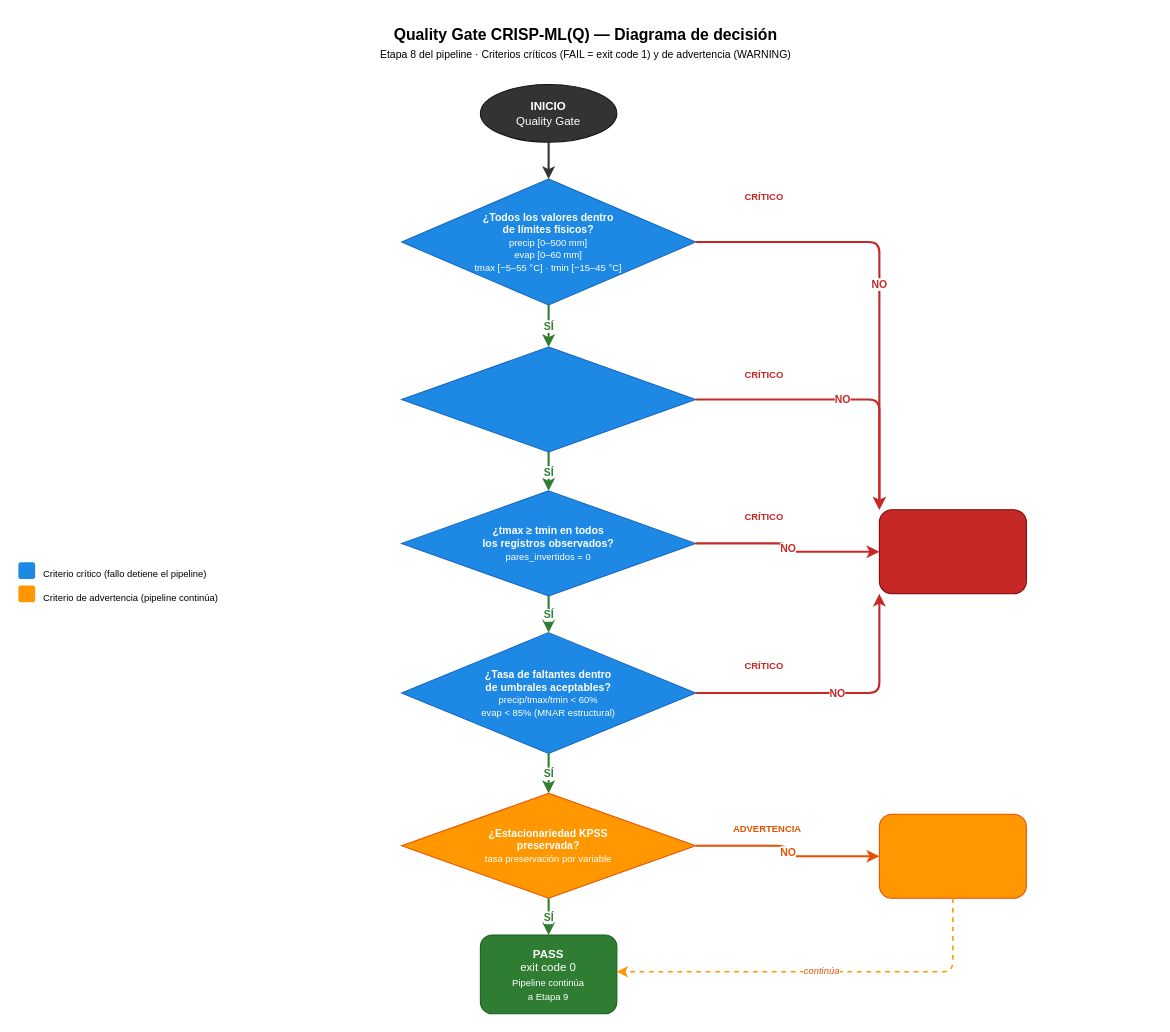
Some shapes in this 1170 by 1032 pixel diagram are drawn without their labels. Each missing label, with the centre of its shape:
FAIL exit code 1 Pipeline detenido Requiere corrección: the point at 952,551
WARNING Pipeline continúa con advertencia Registrado en log: the point at 952,855
¿Todas las estaciones con ≥ 365 días de datos? estaciones_insuficientes = 0: the point at 548,399
